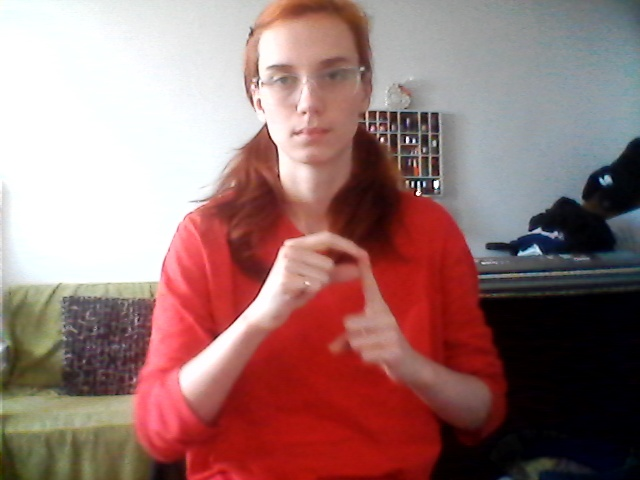p: (265, 228, 412, 388)
